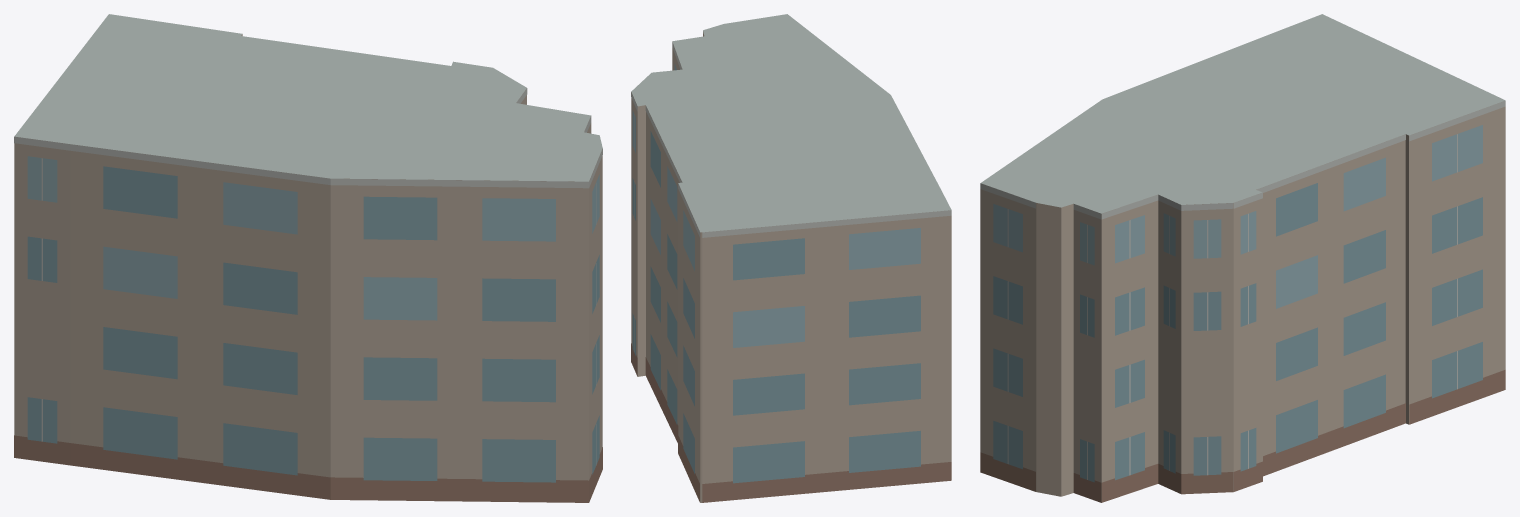
Rendered from survey-upis-32605354.glb.
3 views of the same model, side by side, from view 1: azimuth 30°, elevation 25°; view 2: azimuth 150°, elevation 25°; view 3: azimuth 270°, elevation 25° (orthographic). The views are drawn at different scales.
Visible parts, largest first — view 1: survey-upis-32605354.tmp; view 2: survey-upis-32605354.tmp; view 3: survey-upis-32605354.tmp.
Part boxes in pixels (x1=…): survey-upis-32605354.tmp: x1=14, y1=14, x2=602, y2=502; survey-upis-32605354.tmp: x1=631, y1=14, x2=951, y2=502; survey-upis-32605354.tmp: x1=980, y1=14, x2=1505, y2=502.
Bounding box in the file's own units: 17.58 × 11.87 × 19.54.
